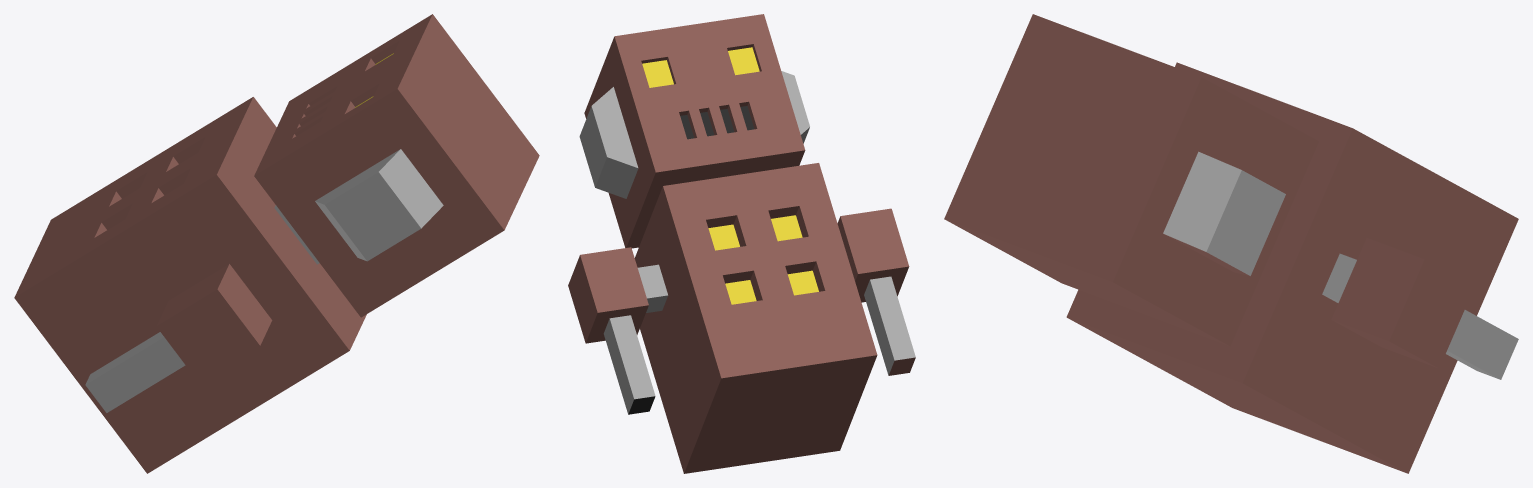
File: Robot.fbx
3 renders of one model, left to right at view 1: azimuth 30°, elevation 25°; view 2: azimuth 150°, elevation 25°; view 3: azimuth 270°, elevation 25°, orthographic. The views are drawn at different scales.
Parts seen in each view (by area): view 1: pCube31; view 2: pCube31; view 3: pCube31.
Boxes of the visible parts, x1,y1,x2,y2 form: pCube31: (14,14,539,473); pCube31: (568,14,915,473); pCube31: (944,14,1518,473).
Bounding box in the file's own units: 0.9107 × 0.8142 × 0.8547.
